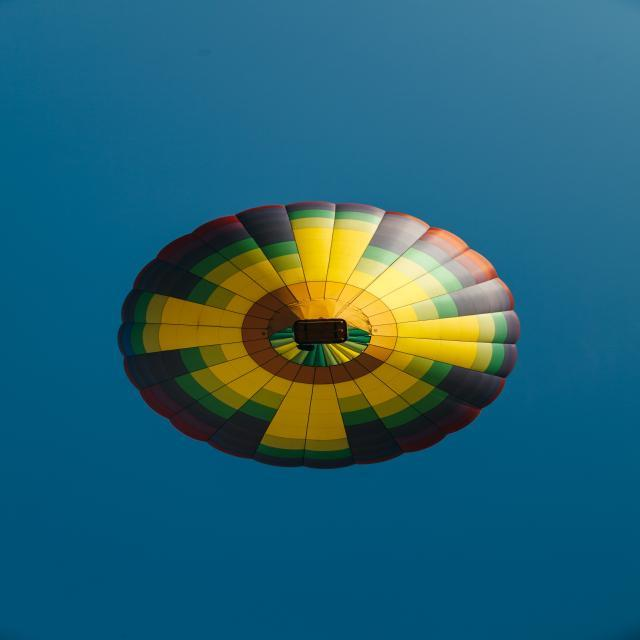Circle: (114, 199, 526, 470)
